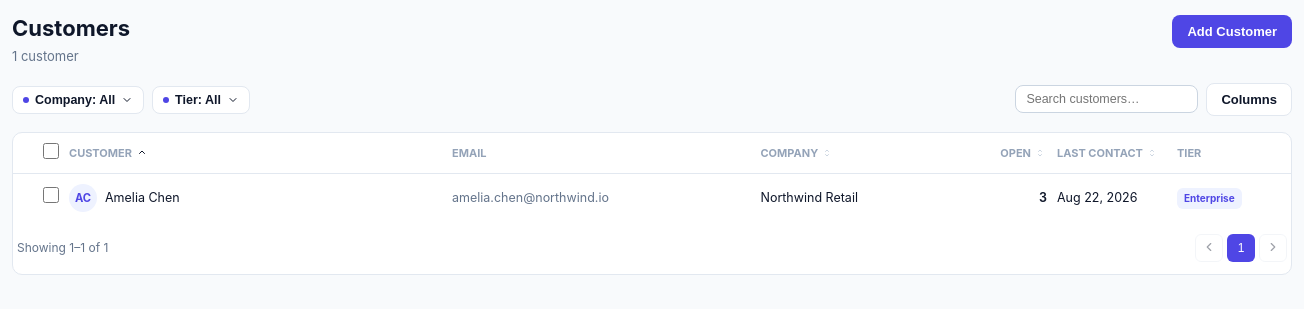
Test: CustomersPage › shows the bulk bar with the count when rows are selected and clears the selection when a filter changes
Check: the text "Amelia Chen" is shown, box [105,190,180,205]
Click the checkbox named "Select Amelia Chen" at [51, 195], box [43,187,59,203]
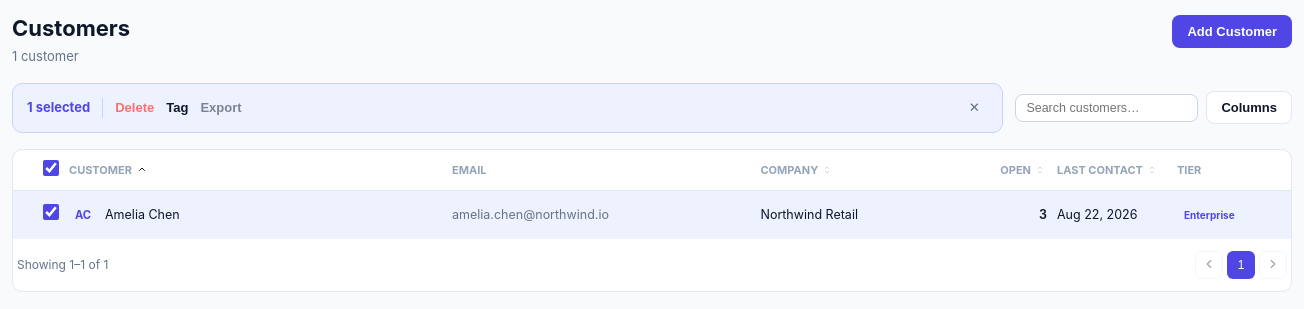
Check: the text "1 selected" is shown, box [27,98,90,117]
Type "chen" into the search field labelled "Search customers" at [1107, 108], box [1015,94,1198,122]
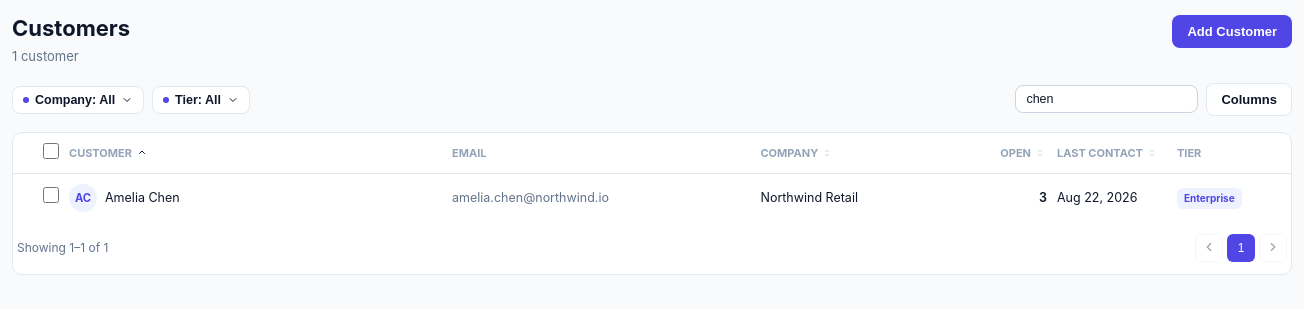
Check: the text "1 selected" is gone
